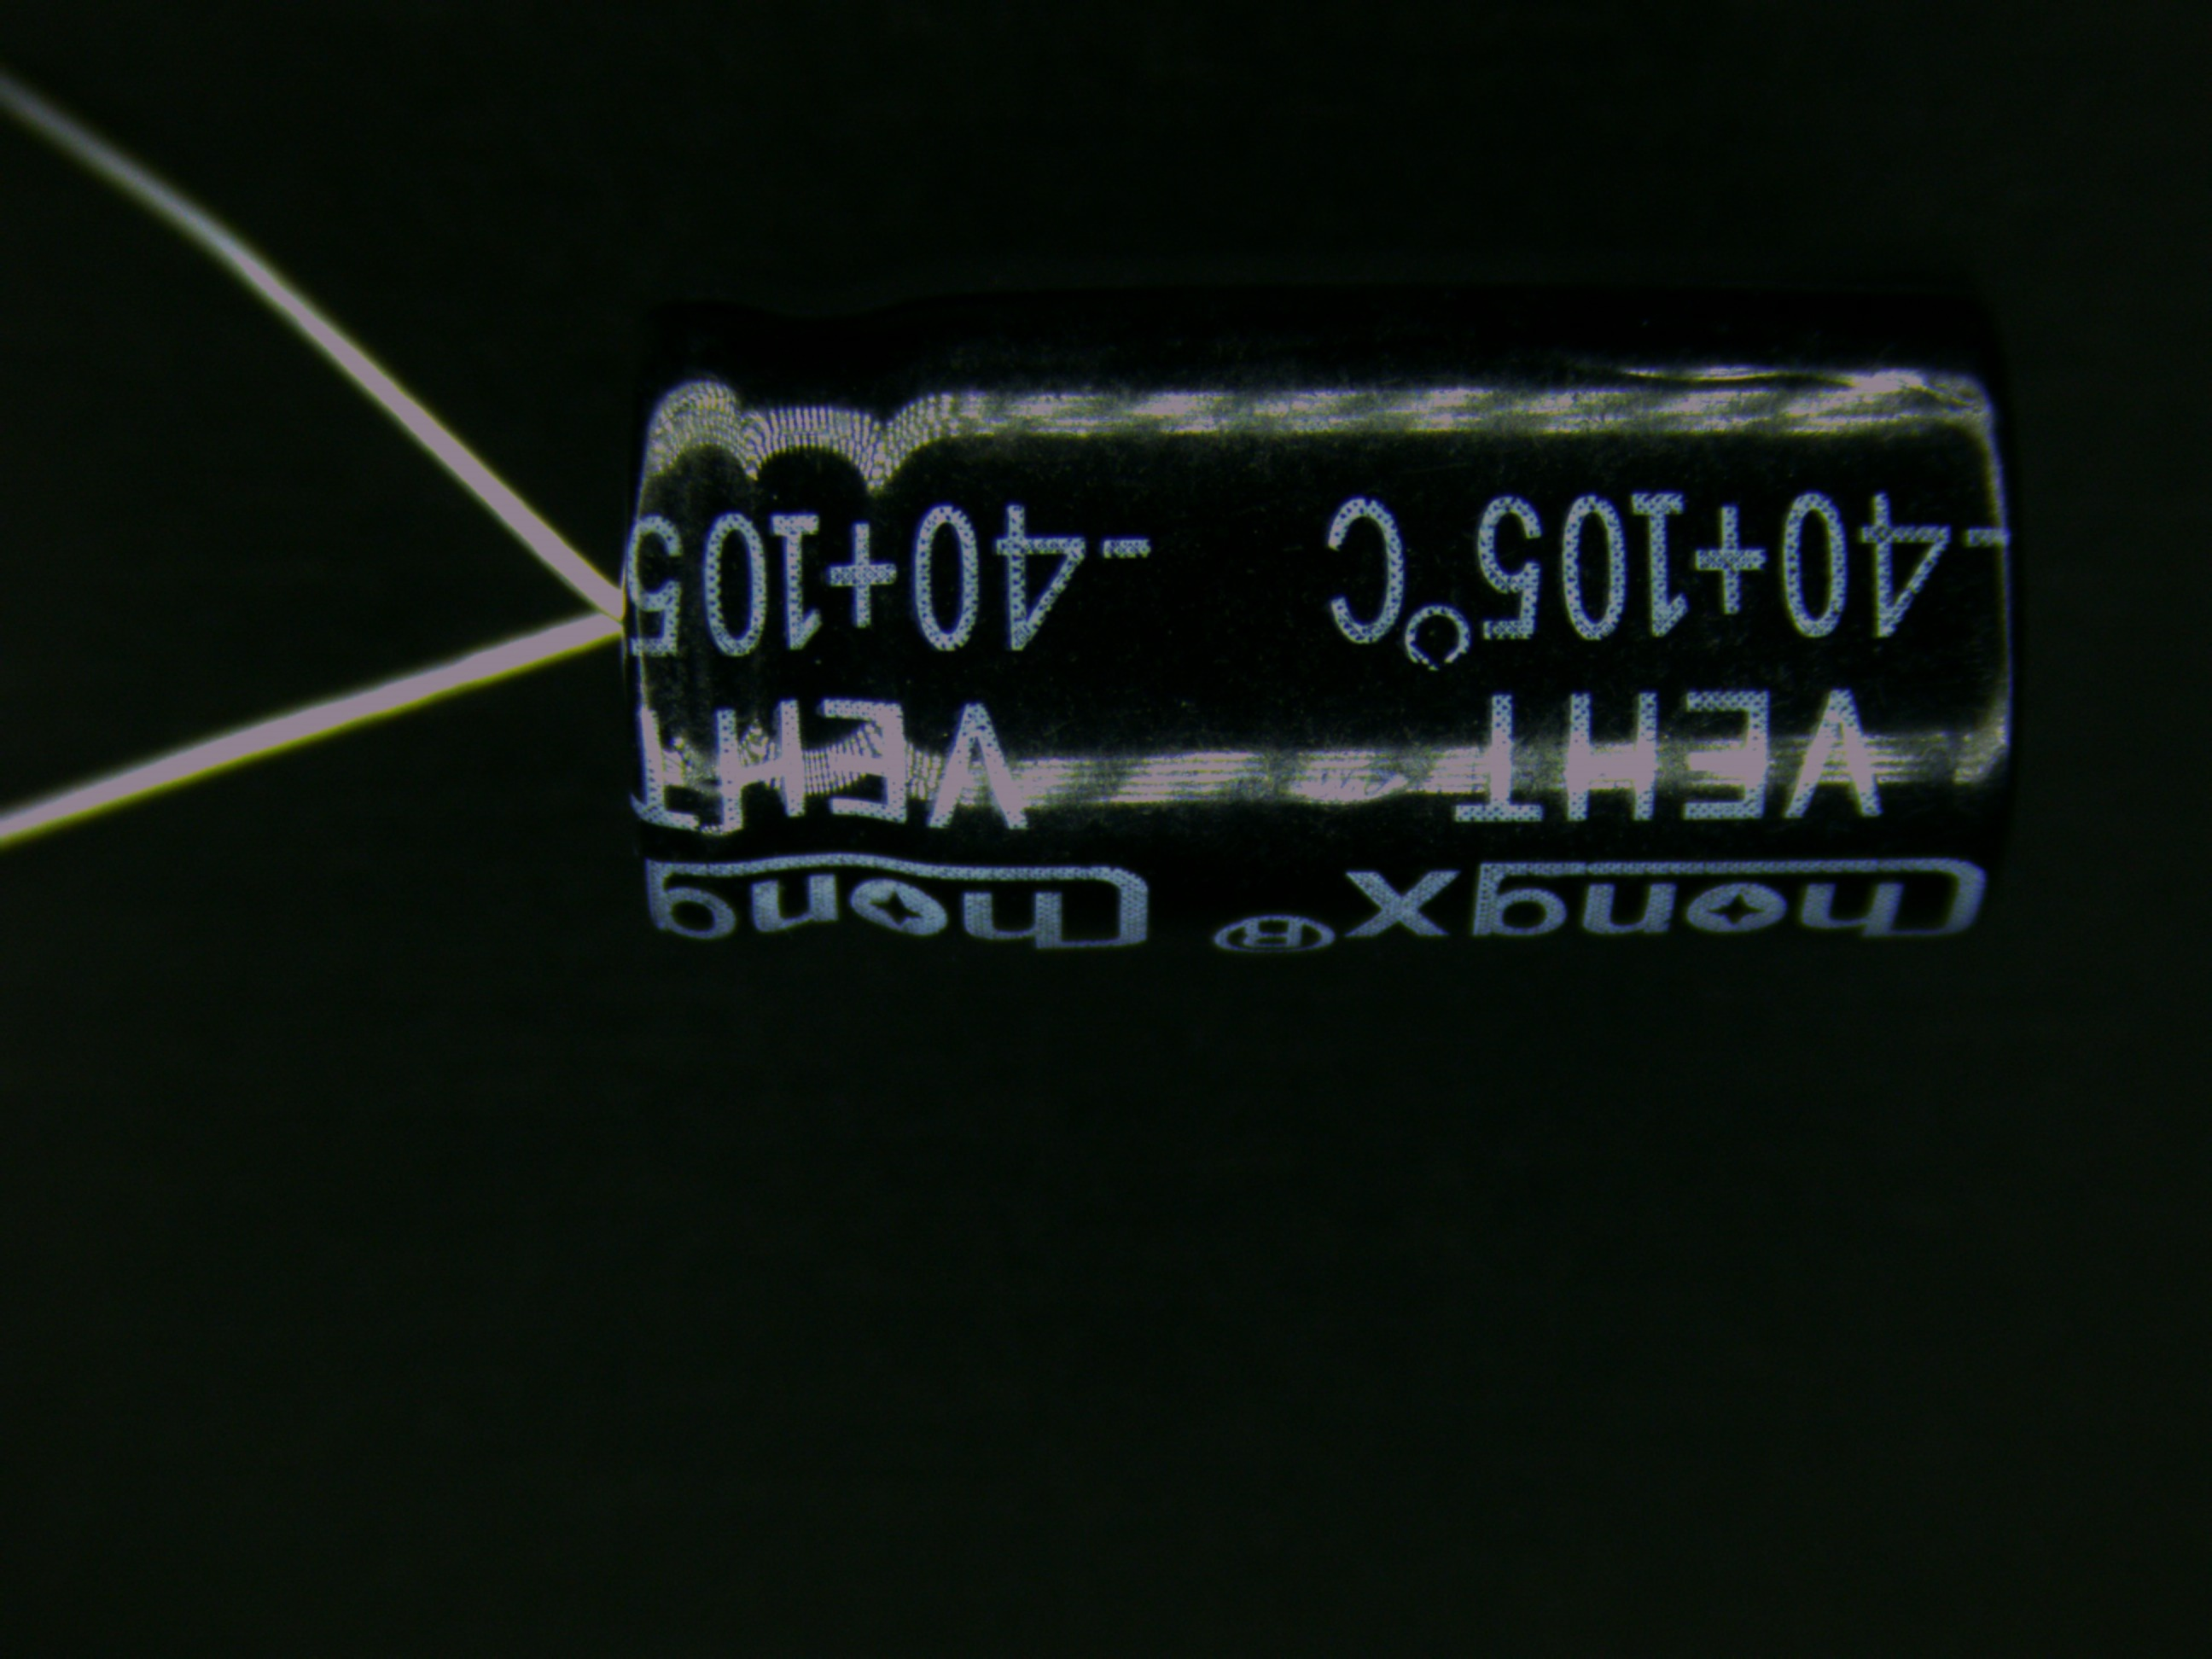c3: (322, 296, 2029, 950)
